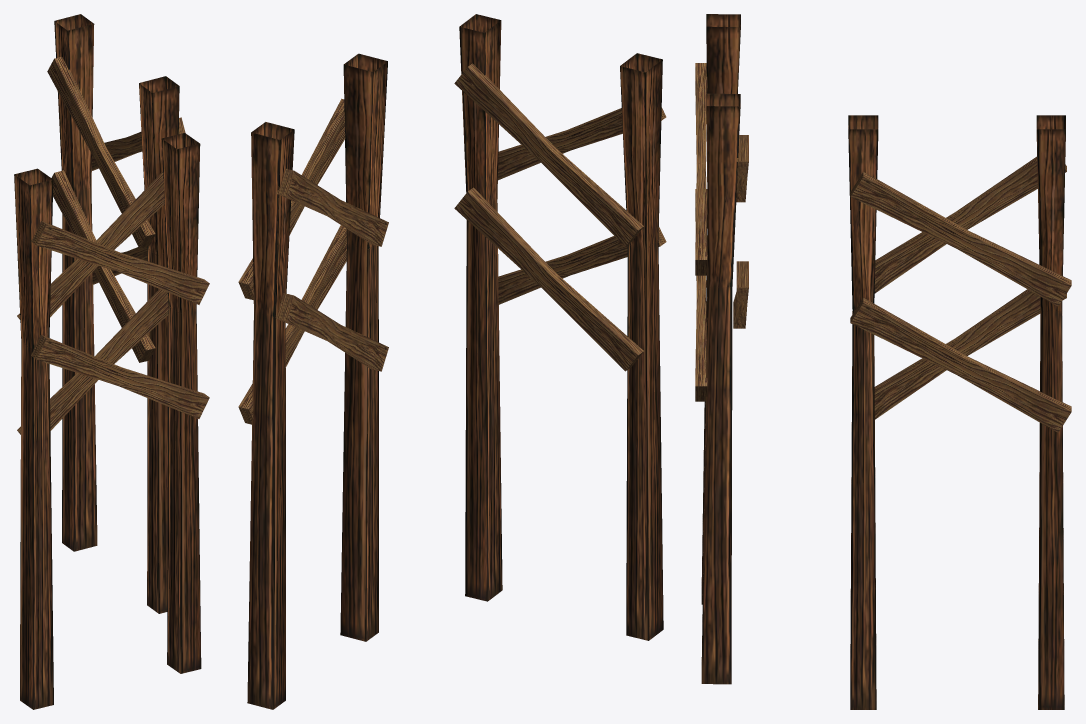
The model's file is LAKETOWN_WAREHOUSE2_PS_WH2_BIG_PLATPOSTS664__GX.fbx.
The picture shows the model from 3 angles, left to right: view 1: azimuth 30°, elevation 25°; view 2: azimuth 150°, elevation 25°; view 3: azimuth 270°, elevation 25°; orthographic projection. The views are drawn at different scales.
Parts seen in each view (by area): view 1: LAKETOWN_WAREHOUSE2_PS_WH2_BIG_PLATPOSTS664__GX; view 2: LAKETOWN_WAREHOUSE2_PS_WH2_BIG_PLATPOSTS664__GX; view 3: LAKETOWN_WAREHOUSE2_PS_WH2_BIG_PLATPOSTS664__GX.
Part boxes in pixels (left/top/right/bottom): LAKETOWN_WAREHOUSE2_PS_WH2_BIG_PLATPOSTS664__GX: left=14, top=14, right=209, bottom=709; LAKETOWN_WAREHOUSE2_PS_WH2_BIG_PLATPOSTS664__GX: left=238, top=14, right=666, bottom=709; LAKETOWN_WAREHOUSE2_PS_WH2_BIG_PLATPOSTS664__GX: left=695, top=14, right=1071, bottom=709.
Bounding box in the file's own units: 36521 × 82052 × 48354.
Materials: 2 (2 with a texture image).
